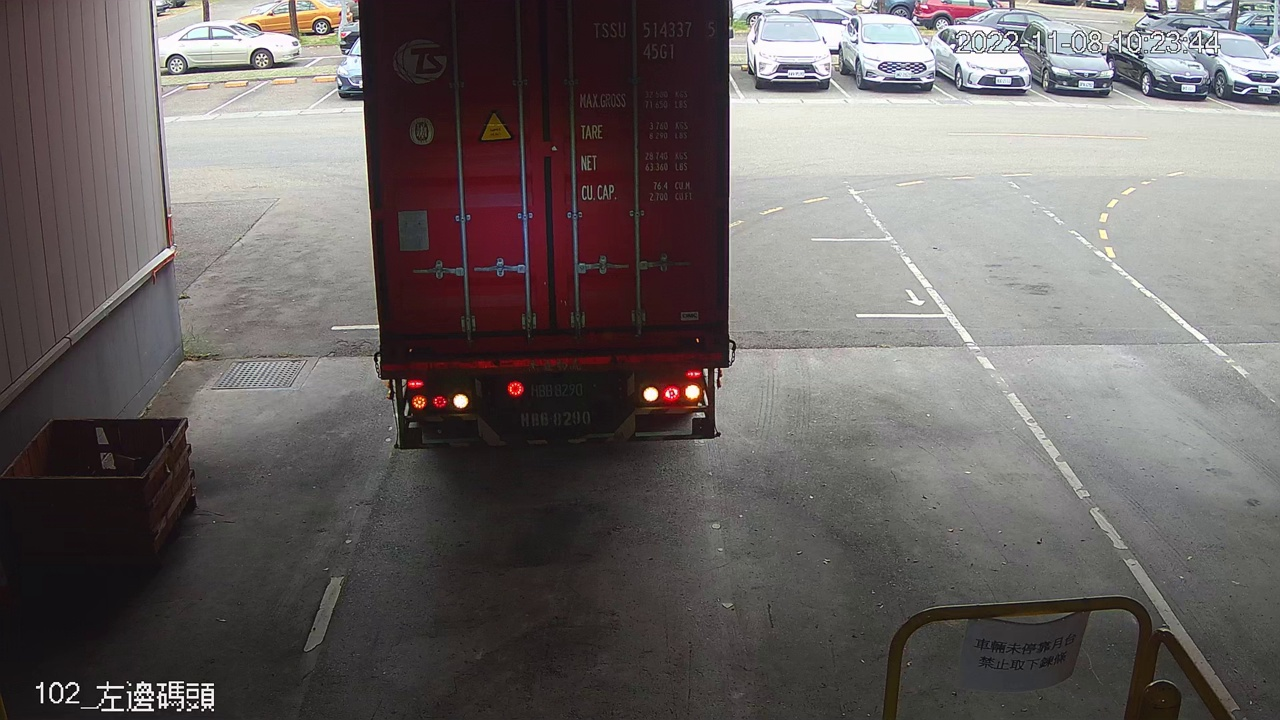container: (586, 12, 723, 66)
